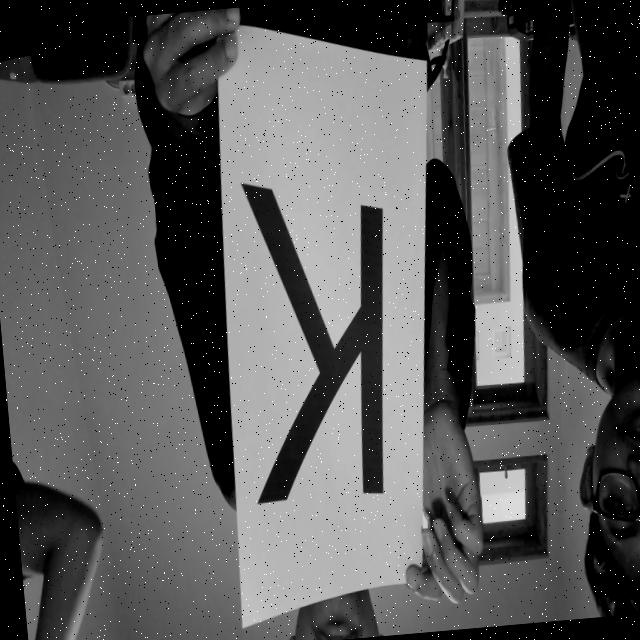k: (235, 156, 416, 552)
